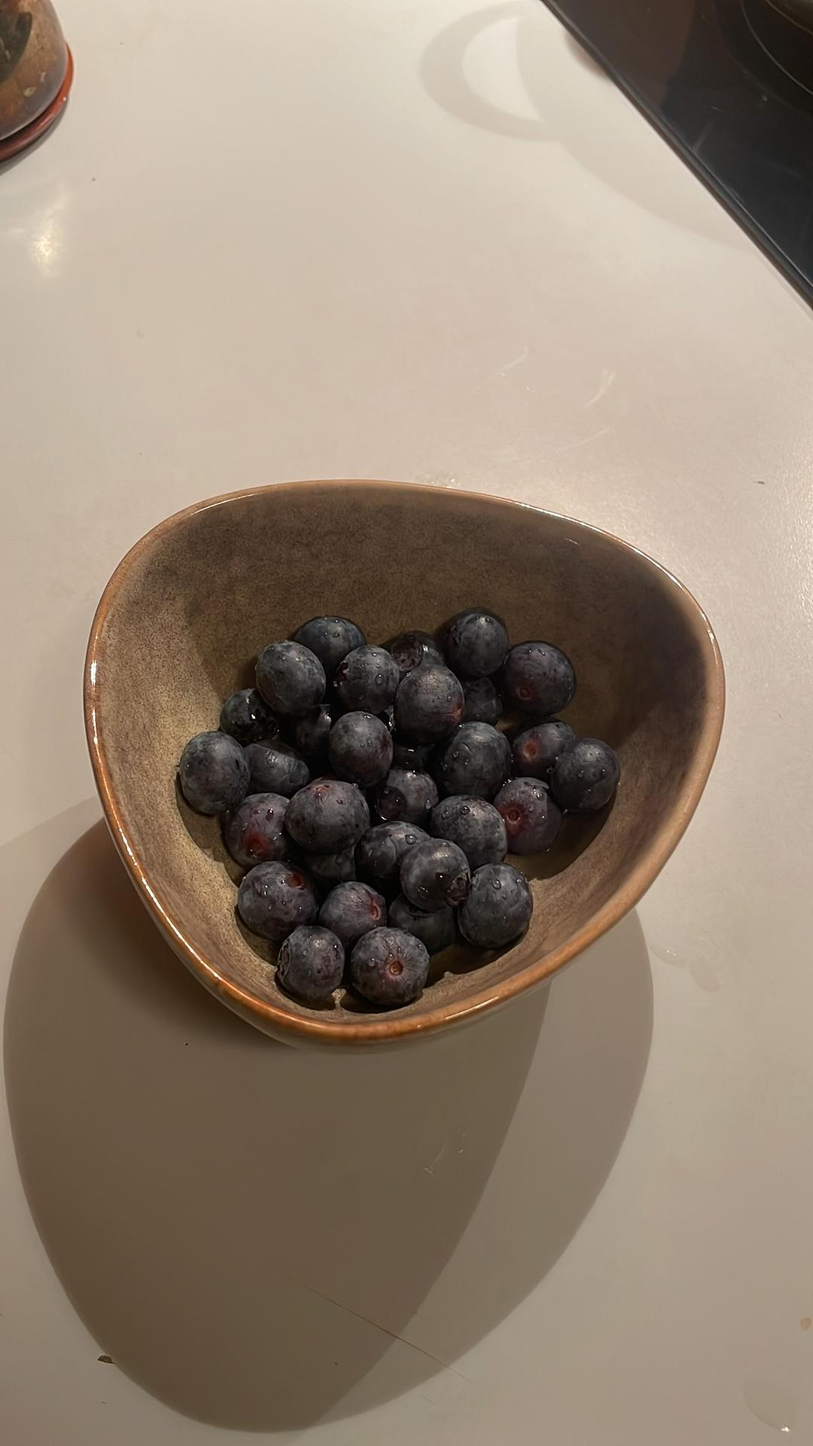blueberry: (501, 643, 586, 723), (174, 731, 253, 814), (461, 862, 535, 950), (343, 930, 427, 1003), (238, 856, 314, 936), (216, 791, 294, 866), (330, 713, 404, 792), (290, 779, 372, 850), (246, 646, 329, 715), (440, 723, 513, 799), (398, 831, 469, 909), (274, 920, 341, 1002), (443, 602, 510, 682), (239, 731, 318, 797), (328, 643, 395, 717), (433, 793, 509, 857), (400, 672, 461, 744), (557, 740, 621, 808), (501, 783, 565, 847), (374, 765, 435, 822), (389, 897, 454, 950), (320, 879, 384, 932), (510, 716, 571, 771), (373, 625, 443, 672), (218, 683, 276, 737), (289, 618, 360, 655)
